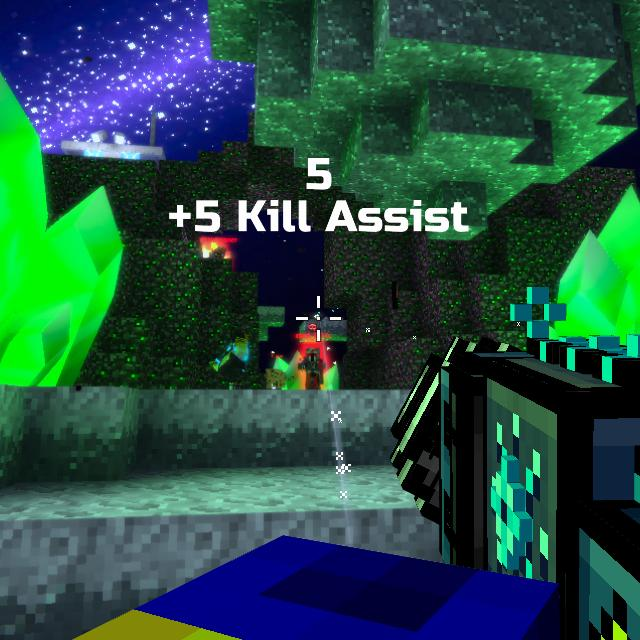Enemy: (299, 347, 327, 389), (205, 246, 232, 270)
